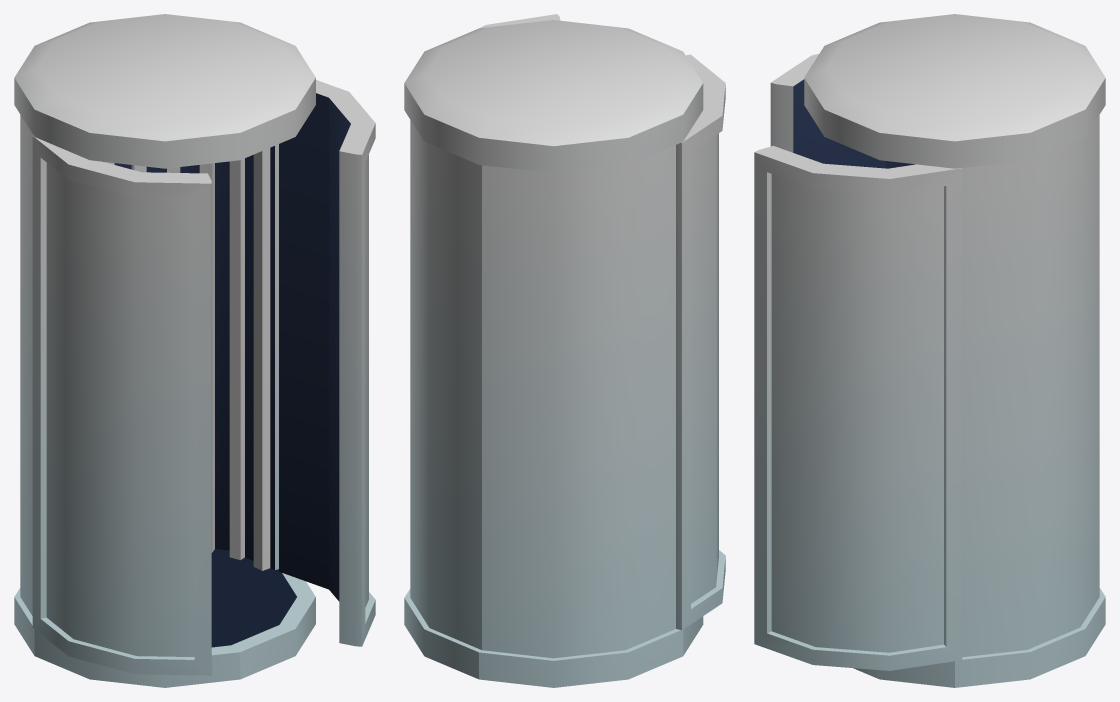
File: TanningBed1.fbx
The picture shows the model from 3 angles, left to right: view 1: azimuth 30°, elevation 25°; view 2: azimuth 150°, elevation 25°; view 3: azimuth 270°, elevation 25°; orthographic projection.
Parts seen in each view (by area): view 1: Circle.002, Circle, Circle.003, Circle.001, Cube; view 2: Circle.001, Circle, Circle.002; view 3: Circle.003, Circle.001, Circle, Circle.002.
Part boxes in pixels (x1,y1,x2,y2): Circle.002: (32,135,211,675); Circle: (14,14,315,687); Circle.003: (279,80,375,646); Circle.001: (20,115,278,615); Cube: (103,148,270,570); Circle.001: (410,120,675,658); Circle: (404,20,703,687); Circle.002: (676,54,725,630); Circle.003: (754,145,962,670); Circle.001: (962,115,1099,657); Circle: (804,14,1105,687); Circle.002: (770,54,915,168).
Size of the model in its own units: 218 by 407 by 233.
